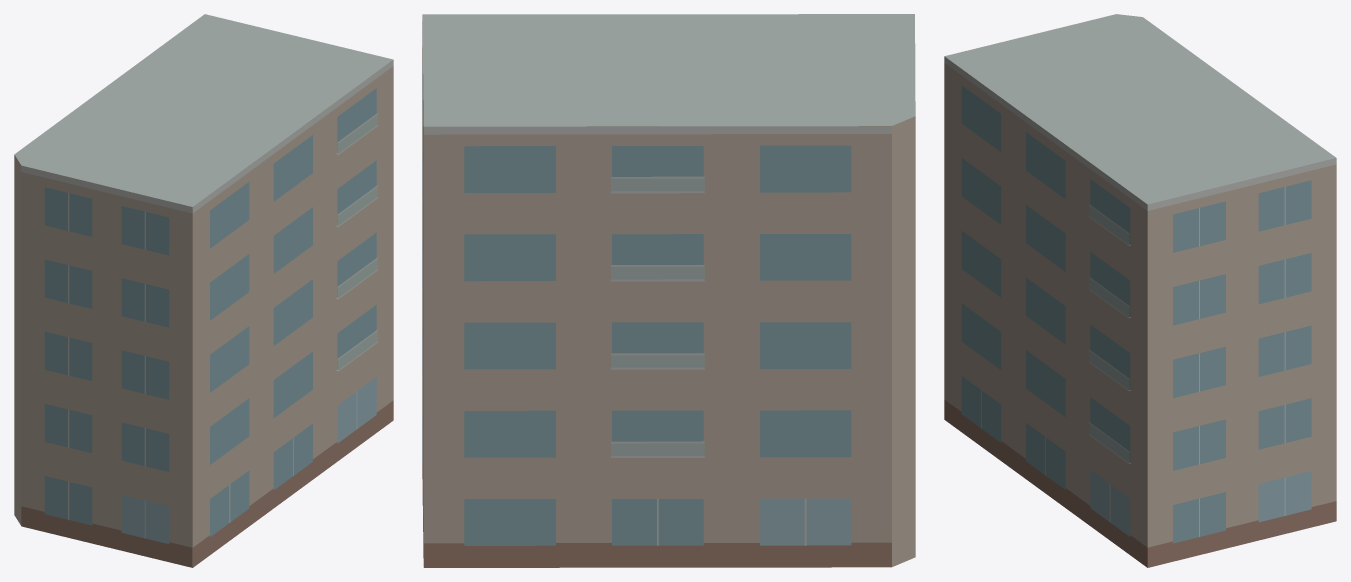
File: survey-upis-32974372.glb
3 views of the same model, side by side, from view 1: azimuth 30°, elevation 25°; view 2: azimuth 150°, elevation 25°; view 3: azimuth 270°, elevation 25° (orthographic). The views are drawn at different scales.
Visible parts, largest first — view 1: survey-upis-32974372.tmp; view 2: survey-upis-32974372.tmp; view 3: survey-upis-32974372.tmp.
Part boxes in pixels (x1,y1,x2,y2): survey-upis-32974372.tmp: (14, 14, 393, 567); survey-upis-32974372.tmp: (422, 14, 915, 567); survey-upis-32974372.tmp: (944, 14, 1336, 567).
Size of the model in its own units: 15.42 by 13.7 by 13.42.
